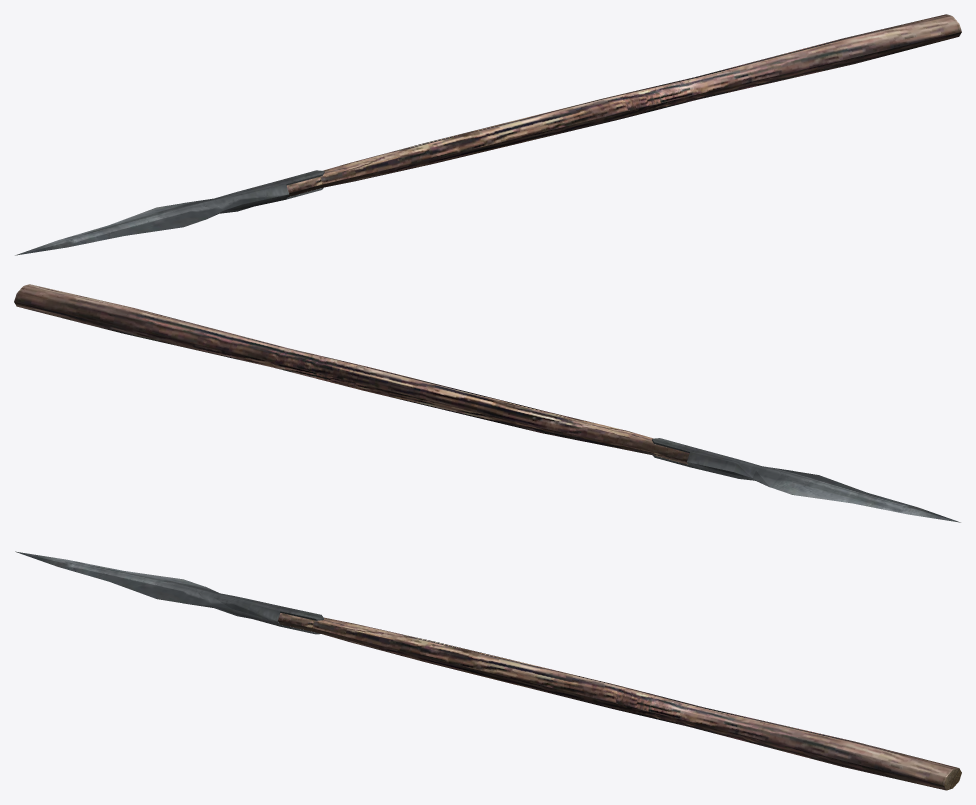
The model's file is ITMW_2H_SPEAR_08.glb.
The picture shows the model from 3 angles, top to bottom: view 1: azimuth 30°, elevation 25°; view 2: azimuth 150°, elevation 25°; view 3: azimuth 330°, elevation 25°; orthographic projection.
Parts seen in each view (by area): view 1: ITMW_2H_SPEAR_08; view 2: ITMW_2H_SPEAR_08; view 3: ITMW_2H_SPEAR_08.
Boxes of the visible parts, left/top/right/bottom form: ITMW_2H_SPEAR_08: left=15, top=14, right=961, bottom=255; ITMW_2H_SPEAR_08: left=14, top=284, right=960, bottom=522; ITMW_2H_SPEAR_08: left=15, top=551, right=961, bottom=790.
Size of the model in its own units: 1.76 by 0.044 by 0.0876.
2 materials, 2 textured.
